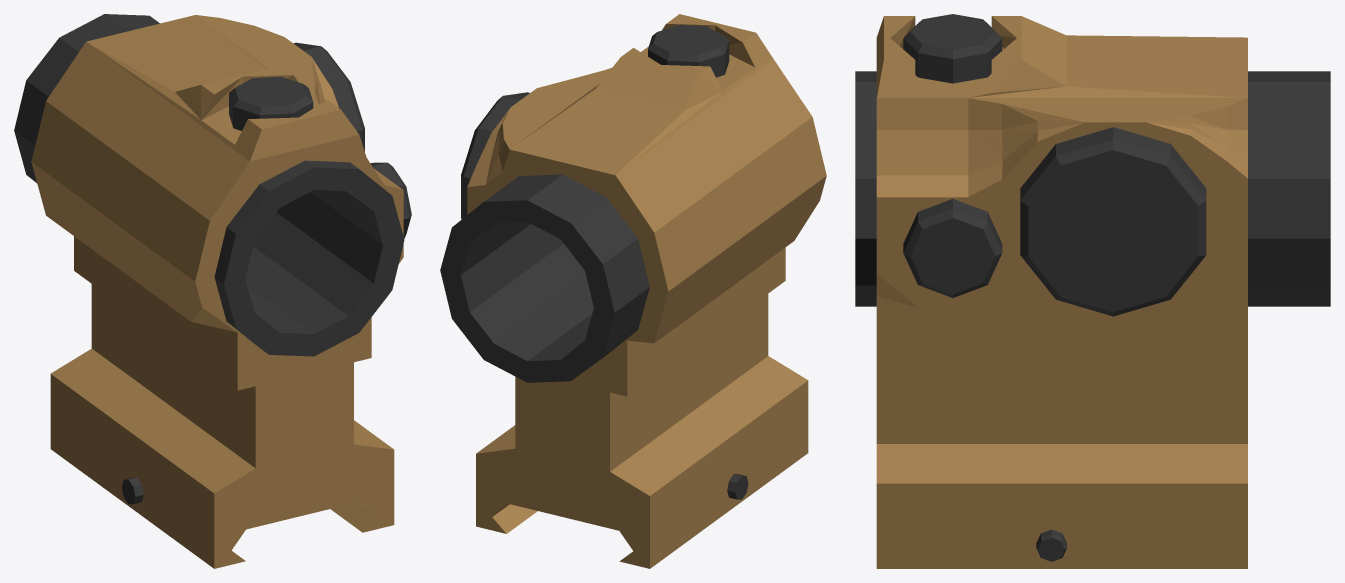
File: optic_04.fbx
3 views of the same model, side by side, from view 1: azimuth 30°, elevation 25°; view 2: azimuth 150°, elevation 25°; view 3: azimuth 270°, elevation 25° (orthographic). The views are drawn at different scales.
Visible parts, largest first — view 1: Micro_T1; view 2: Micro_T1; view 3: Micro_T1.
Boxes of the visible parts, x1,y1,x2,y2 form: Micro_T1: (14,14,411,568); Micro_T1: (440,14,826,568); Micro_T1: (855,14,1330,568).
Bounding box in the file's own units: 3.63 × 6.3 × 5.57.
